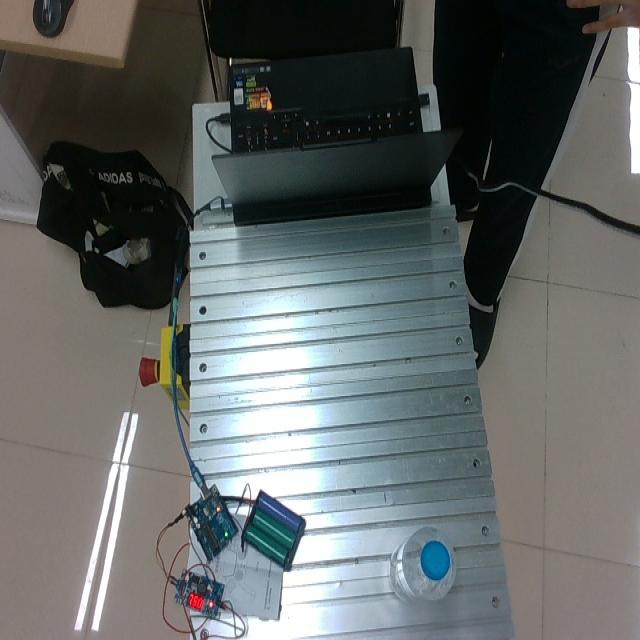lavie: (390, 525, 458, 606)
